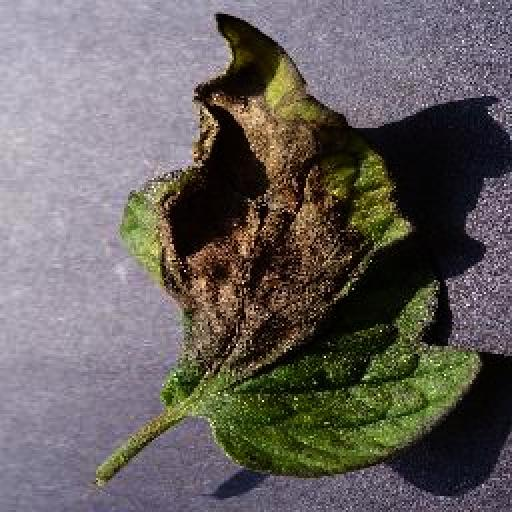disease_tomato: (121, 12, 483, 478)
